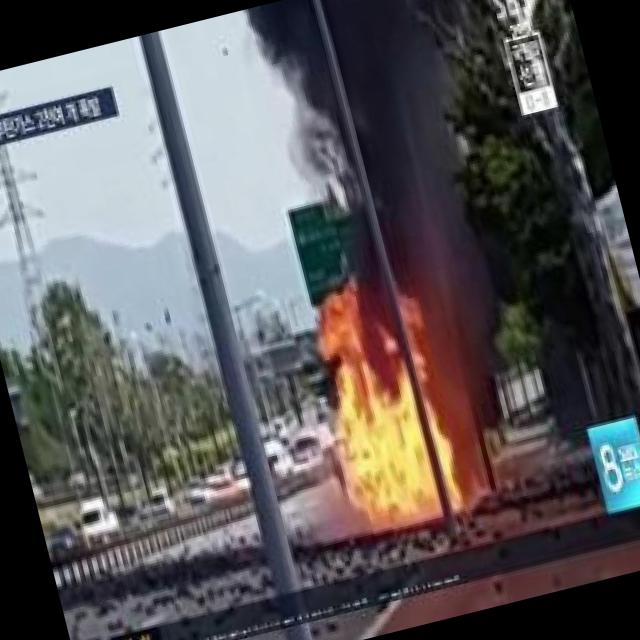Fire: (320, 356, 458, 546)
Smoke: (246, 0, 504, 366)
